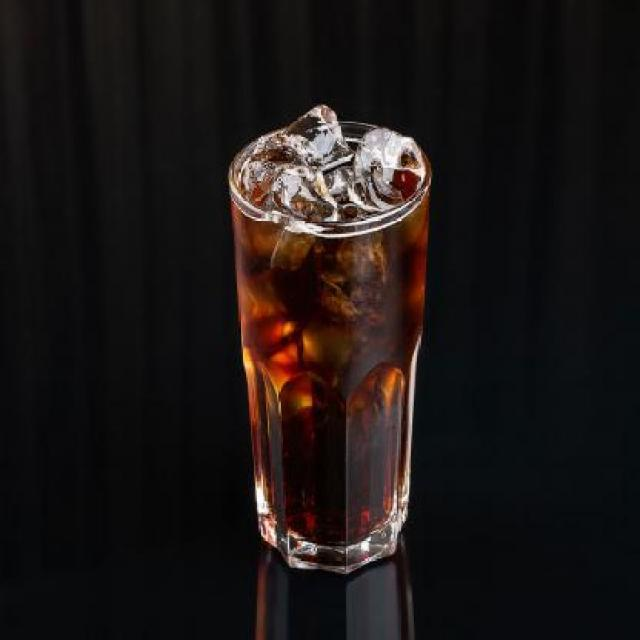Coke: (228, 100, 432, 574)
